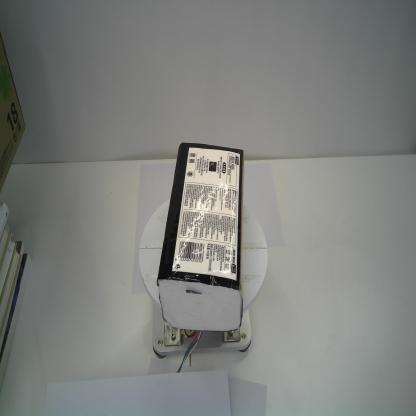Tissue: (155, 141, 243, 334)
